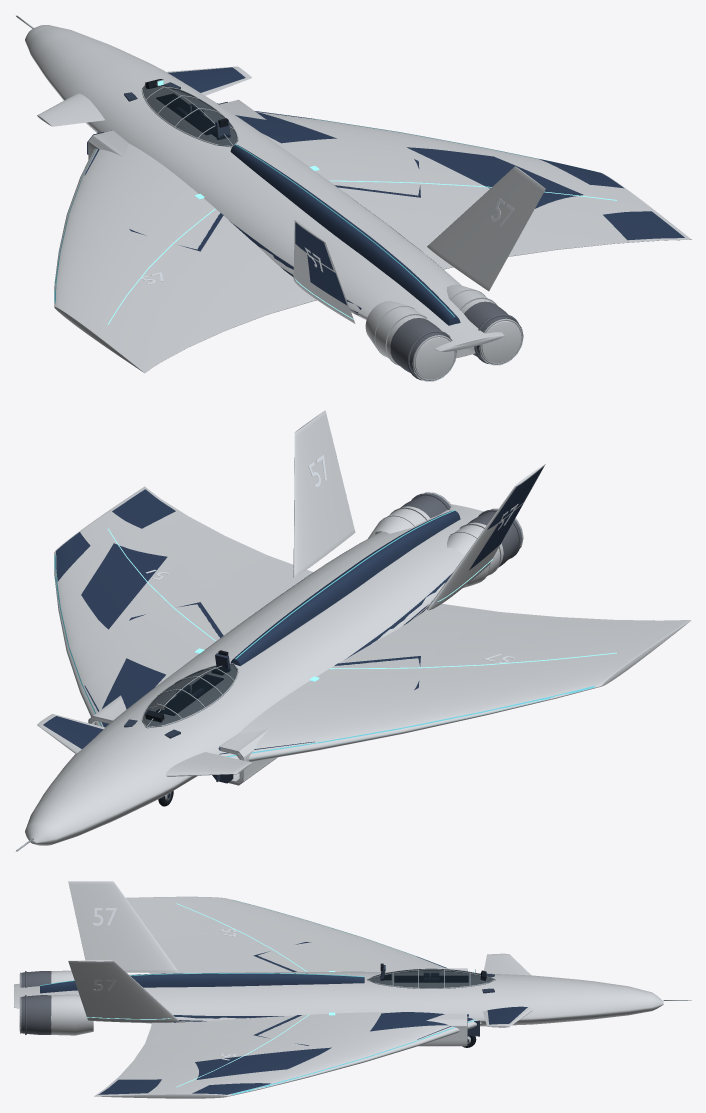
Rendered from showcase.glb.
3 renders of one model, top to bottom at view 1: azimuth 30°, elevation 25°; view 2: azimuth 150°, elevation 25°; view 3: azimuth 270°, elevation 25°, orthographic. The views are drawn at different scales.
Visible parts, largest first — view 1: showcase_body_Paint_Base, showcase_body_Paint_Secondary, showcase_body_Canopy_Glass, showcase_body_Metal_Heat, showcase_body_Metal_Detail, showcase_body_Paint_Accent, showcase_body_Paint_Dark, showcase_body_Glow_Emit; view 2: showcase_body_Paint_Base, showcase_body_Paint_Secondary, showcase_body_Canopy_Glass, showcase_body_Paint_Accent, showcase_body_Metal_Heat, showcase_body_Metal_Detail, showcase_body_Paint_Dark, showcase_body_Glow_Emit; view 3: showcase_body_Paint_Base, showcase_body_Paint_Secondary, showcase_body_Canopy_Glass, showcase_body_Metal_Heat, showcase_body_Paint_Accent, showcase_body_Metal_Detail, showcase_body_Paint_Dark, showcase_body_Glow_Emit, showcase_body_Paint_Marking, showcase_body_Paint_Structural.
Part boxes in pixels (x1,y1,x2,y2): showcase_body_Paint_Base: [25, 25, 691, 379]; showcase_body_Paint_Secondary: [84, 67, 684, 325]; showcase_body_Canopy_Glass: [142, 85, 237, 145]; showcase_body_Metal_Heat: [390, 301, 518, 380]; showcase_body_Metal_Detail: [16, 15, 523, 381]; showcase_body_Paint_Accent: [54, 119, 579, 317]; showcase_body_Paint_Dark: [145, 79, 228, 136]; showcase_body_Glow_Emit: [107, 180, 616, 324]; showcase_body_Paint_Base: [25, 410, 691, 845]; showcase_body_Paint_Secondary: [43, 466, 543, 754]; showcase_body_Canopy_Glass: [142, 664, 237, 727]; showcase_body_Paint_Accent: [54, 510, 595, 759]; showcase_body_Metal_Heat: [400, 493, 521, 567]; showcase_body_Metal_Detail: [14, 492, 523, 852]; showcase_body_Paint_Dark: [145, 650, 228, 722]; showcase_body_Glow_Emit: [108, 528, 616, 669]; showcase_body_Paint_Base: [14, 881, 663, 1098]; showcase_body_Paint_Secondary: [40, 942, 527, 1094]; showcase_body_Canopy_Glass: [368, 968, 494, 987]; showcase_body_Metal_Heat: [21, 971, 51, 1034]; showcase_body_Paint_Accent: [40, 899, 475, 1094]; showcase_body_Metal_Detail: [20, 968, 691, 1045]; showcase_body_Paint_Dark: [380, 963, 486, 982]; showcase_body_Glow_Emit: [87, 903, 309, 1087]; showcase_body_Paint_Marking: [93, 908, 235, 1060]; showcase_body_Paint_Structural: [380, 965, 494, 1036].
Bounding box in the file's own units: 16.4 × 5.11 × 23.79.
